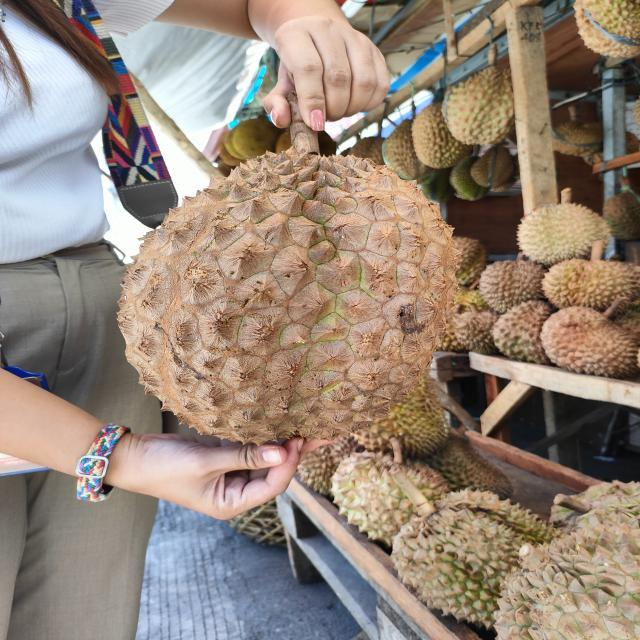mature: (113, 142, 462, 442)
